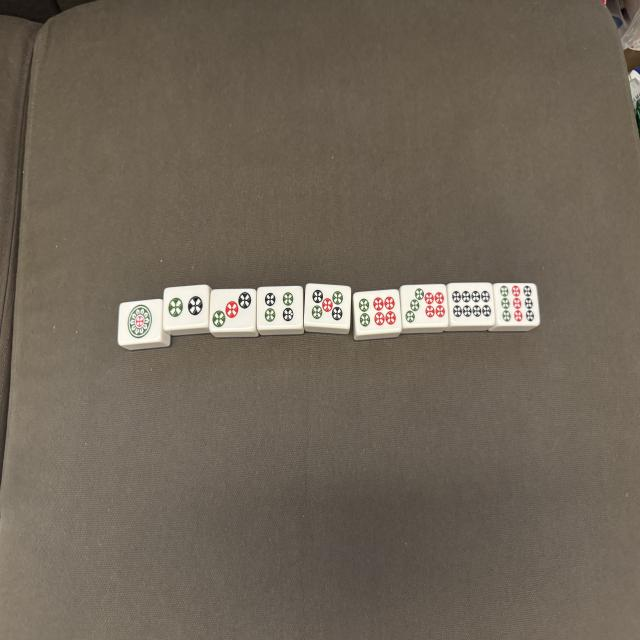t1: (120, 300, 162, 346)
t2: (162, 286, 208, 329)
t3: (210, 291, 256, 332)
t4: (259, 287, 305, 328)
t5: (305, 286, 350, 328)
t6: (355, 291, 400, 334)
t7: (402, 285, 448, 326)
t8: (449, 284, 495, 324)
t9: (495, 286, 537, 327)
